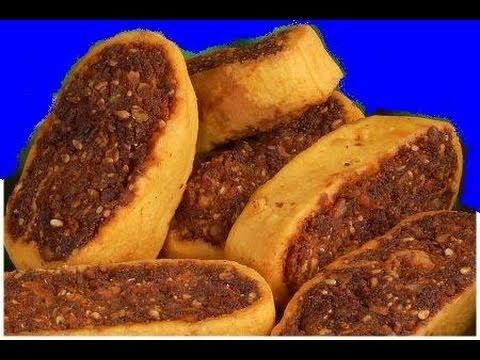bhakarwadi: (5, 26, 474, 334)
